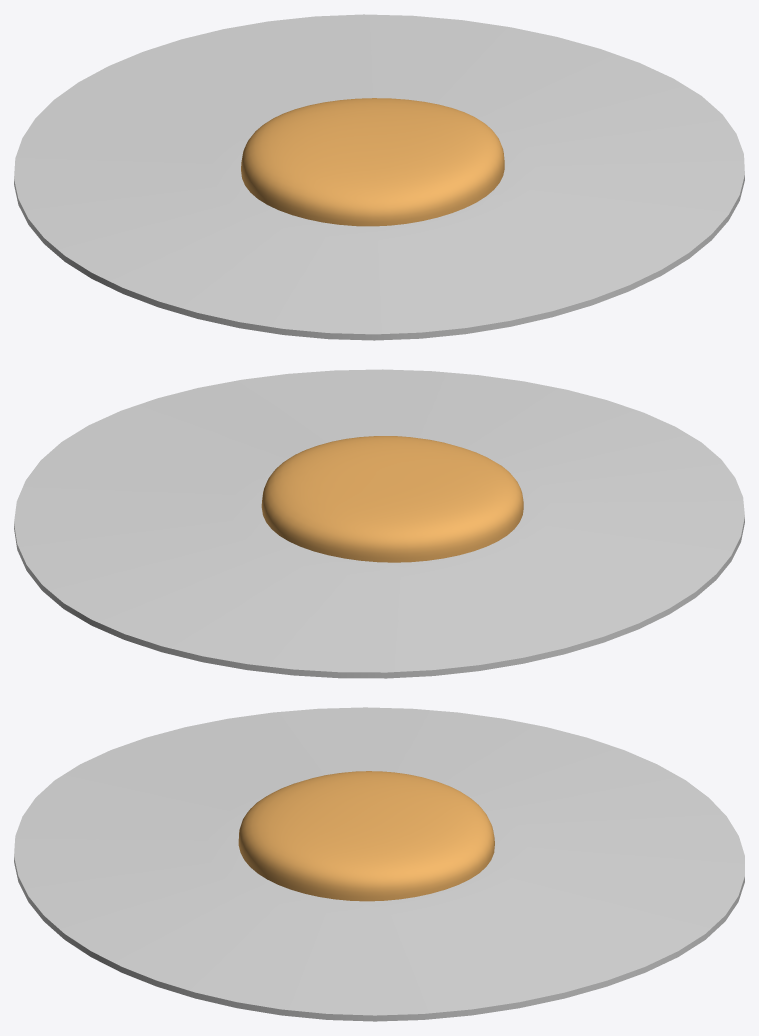
Rendered from egg_cooked.fbx.
The picture shows the model from 3 angles, top to bottom: view 1: azimuth 30°, elevation 25°; view 2: azimuth 150°, elevation 25°; view 3: azimuth 270°, elevation 25°; orthographic projection.
Parts seen in each view (by area): view 1: Cylinder, Cylinder_2; view 2: Cylinder, Cylinder_2; view 3: Cylinder, Cylinder_2.
Boxes of the visible parts, x1=… form: Cylinder: x1=14, y1=14, x2=744, y2=340; Cylinder_2: x1=241, y1=98, x2=504, y2=226; Cylinder: x1=14, y1=369, x2=744, y2=678; Cylinder_2: x1=261, y1=436, x2=523, y2=562; Cylinder: x1=14, y1=707, x2=744, y2=1021; Cylinder_2: x1=238, y1=771, x2=494, y2=901.
Bounding box in the file's own units: 77.63 × 5.73 × 77.83.
